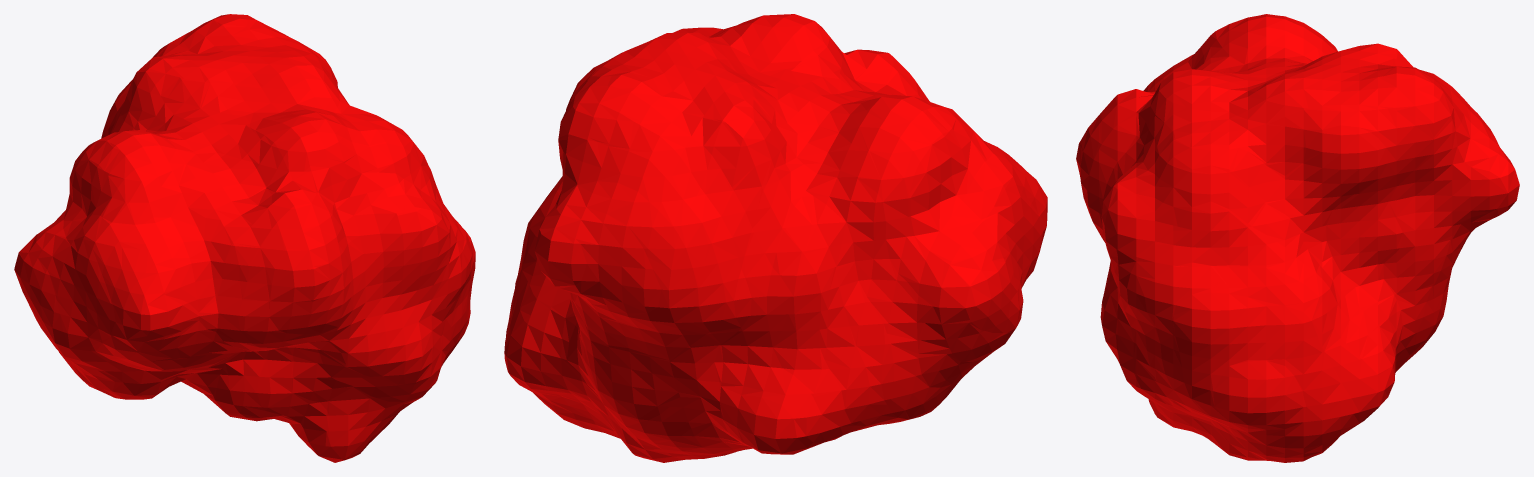
Rendered from epmB_coarse.dae.
The picture shows the model from 3 angles, left to right: view 1: azimuth 30°, elevation 25°; view 2: azimuth 150°, elevation 25°; view 3: azimuth 270°, elevation 25°; orthographic projection. The views are drawn at different scales.
Parts seen in each view (by area): view 1: epmB; view 2: epmB; view 3: epmB.
Boxes of the visible parts, box(x1,y1,x2,y2) form: epmB: box(14, 14, 475, 462); epmB: box(504, 14, 1047, 462); epmB: box(1076, 14, 1519, 462).
Bounding box in the file's own units: 60.53 × 49.73 × 56.1.
